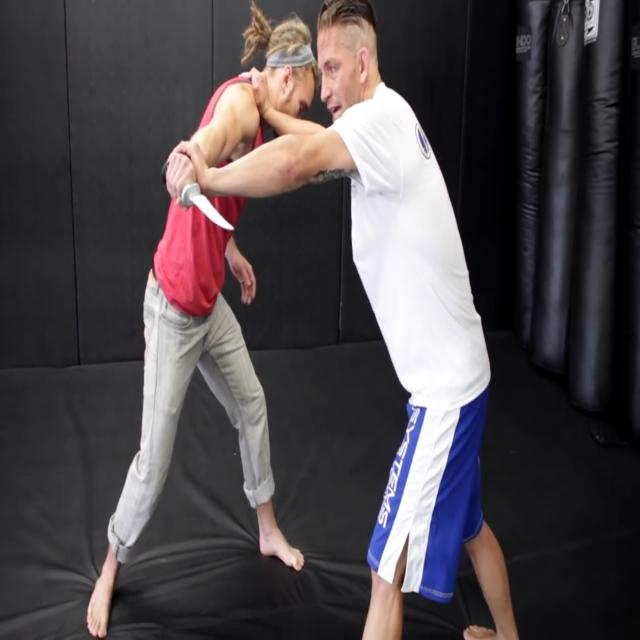knife: (183, 184, 237, 234)
